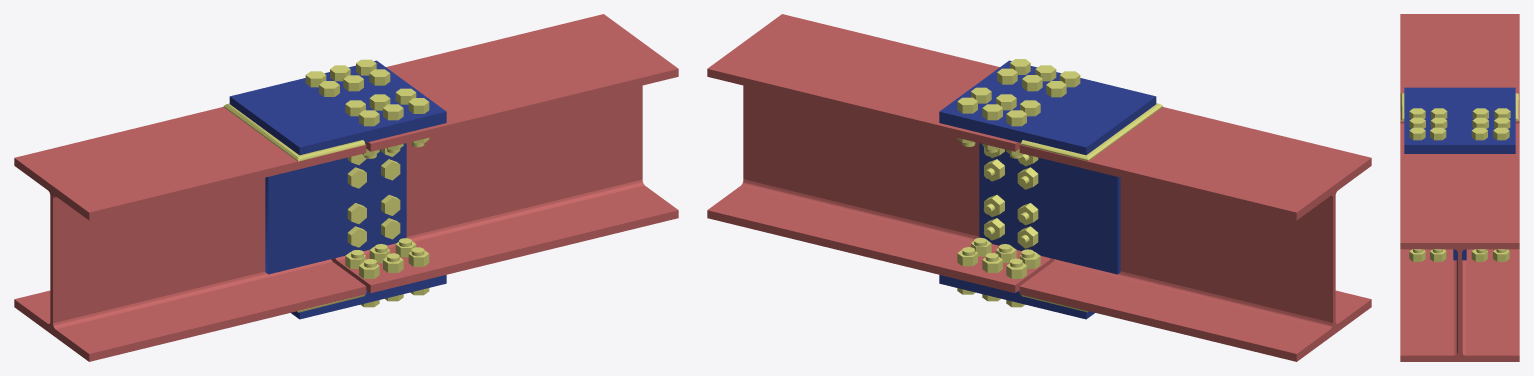
File: steel cont.glb
The picture shows the model from 3 angles, left to right: view 1: azimuth 30°, elevation 25°; view 2: azimuth 150°, elevation 25°; view 3: azimuth 270°, elevation 25°; orthographic projection. The views are drawn at different scales.
Visible parts, largest first — view 1: Line019, Line015, Line018, Line016, Object001, Line020, Cylinder032; view 2: Line019, Line015, Line018, Line016, Object001, Line020, Cylinder030, Cylinder032; view 3: Line019, Line015, Line016, Line020, Gengon043, Gengon035, Gengon036, Gengon042, Cylinder032, Gengon040, Gengon039, Gengon044 (+10 smaller).
Boxes of the visible parts, left/top/right/bottom form: Line019: left=331, top=14, right=678, bottom=292; Line015: left=14, top=107, right=366, bottom=361; Line018: left=265, top=143, right=406, bottom=274; Line016: left=229, top=60, right=446, bottom=155; Object001: left=291, top=275, right=446, bottom=319; Line020: left=223, top=103, right=365, bottom=161; Cylinder032: left=351, top=238, right=424, bottom=267; Line019: left=707, top=14, right=1054, bottom=292; Line015: left=1019, top=107, right=1371, bottom=361; Line018: left=979, top=143, right=1120, bottom=274; Line016: left=939, top=60, right=1156, bottom=155; Object001: left=939, top=275, right=1094, bottom=319; Line020: left=1021, top=103, right=1162, bottom=160; Cylinder030: left=983, top=148, right=1029, bottom=245; Cylinder032: left=962, top=237, right=1034, bottom=267; Line019: left=1400, top=123, right=1519, bottom=361; Line015: left=1400, top=14, right=1519, bottom=123; Line016: left=1404, top=87, right=1515, bottom=153; Line020: left=1400, top=93, right=1518, bottom=121; Gengon043: left=1493, top=127, right=1509, bottom=140; Gengon035: left=1430, top=127, right=1446, bottom=140; Gengon036: left=1409, top=127, right=1425, bottom=140; Gengon042: left=1471, top=127, right=1487, bottom=140; Cylinder032: left=1413, top=249, right=1506, bottom=253; Gengon040: left=1430, top=117, right=1447, bottom=128; Gengon039: left=1409, top=117, right=1425, bottom=128; Gengon044: left=1472, top=117, right=1488, bottom=128.
Bounding box in the file's own units: 0.3463 × 0.1064 × 0.0762.
